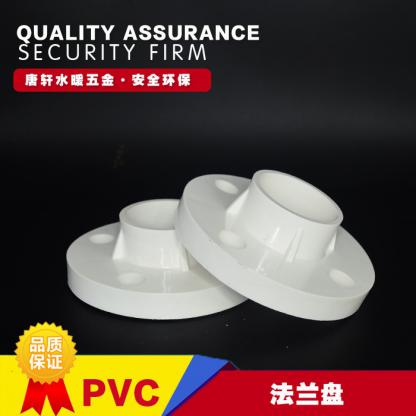FOD: (173, 153, 384, 325), (60, 189, 261, 321)
